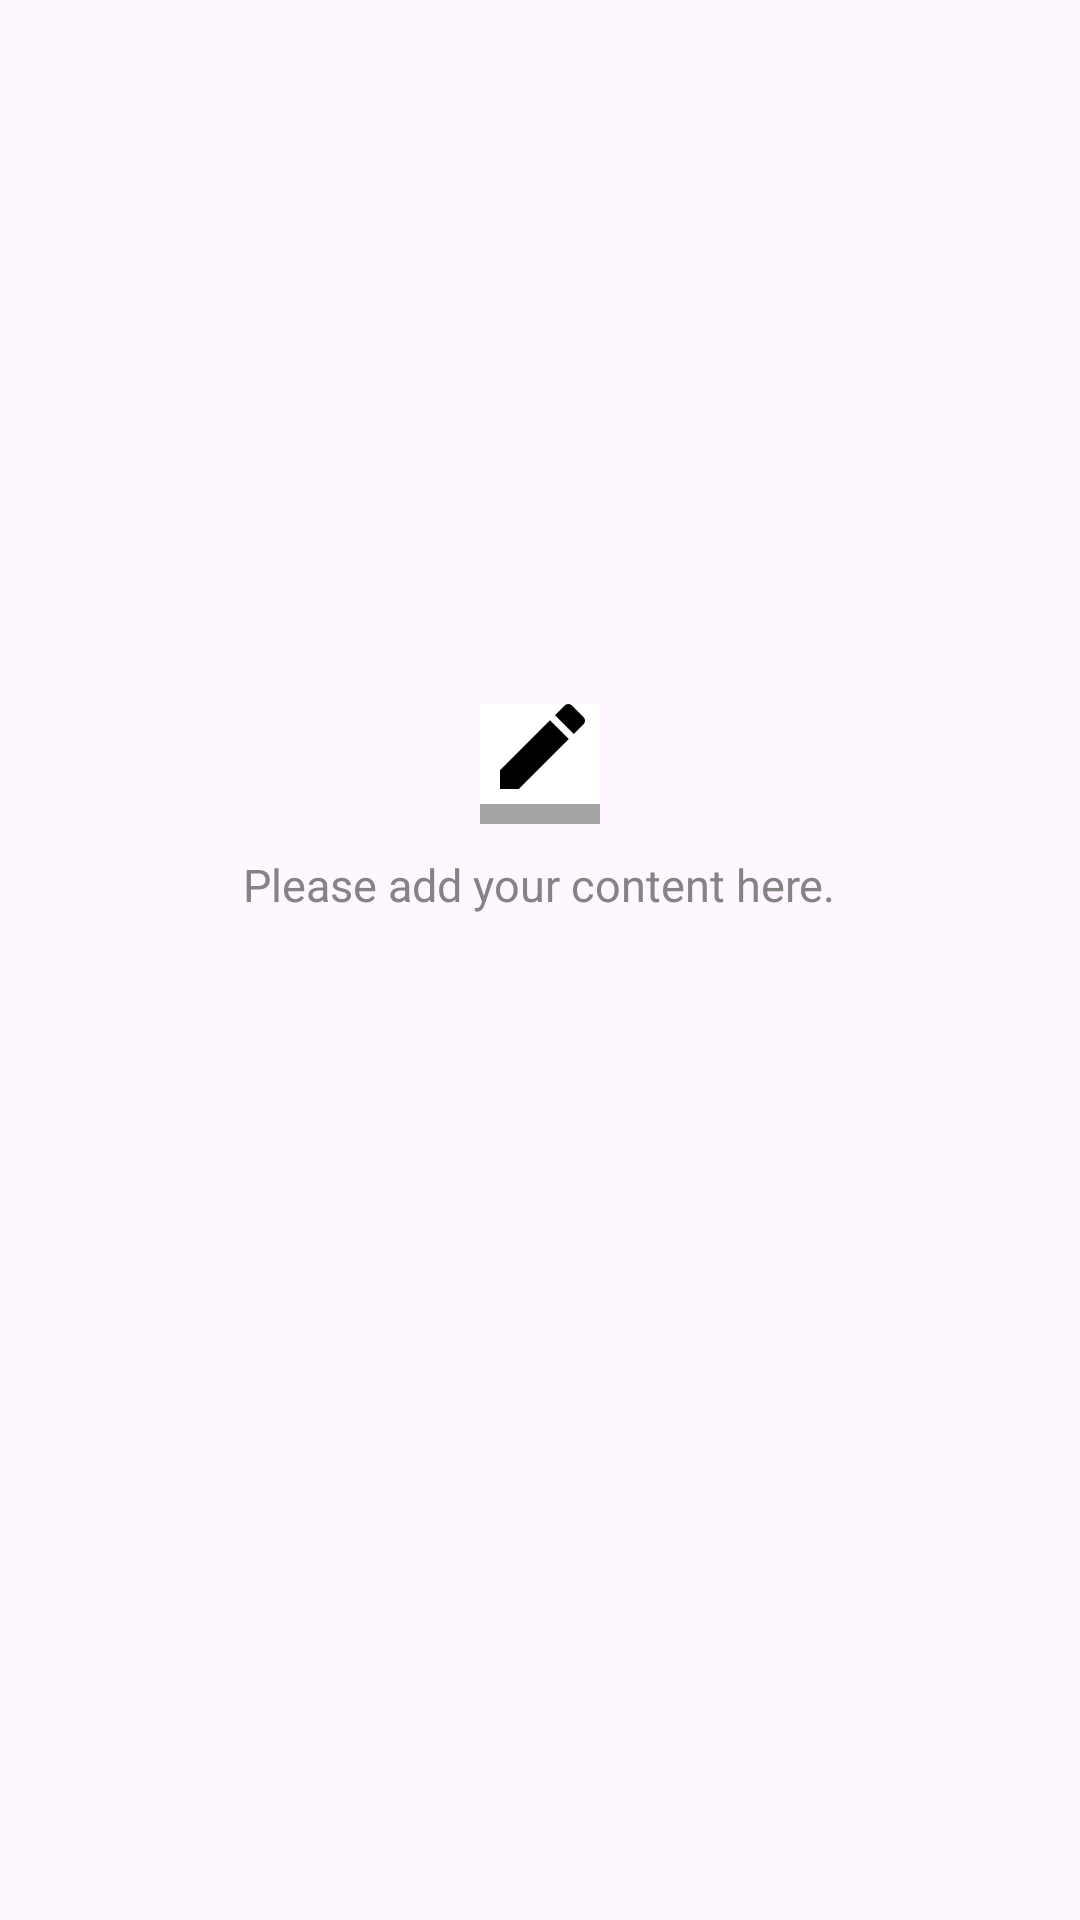

Where icons sit on this 1080 × 1920 app screen, as (left=x1, top=y1, right=x2, bottom=y2):
mode edit: (left=480, top=704, right=600, bottom=824)
